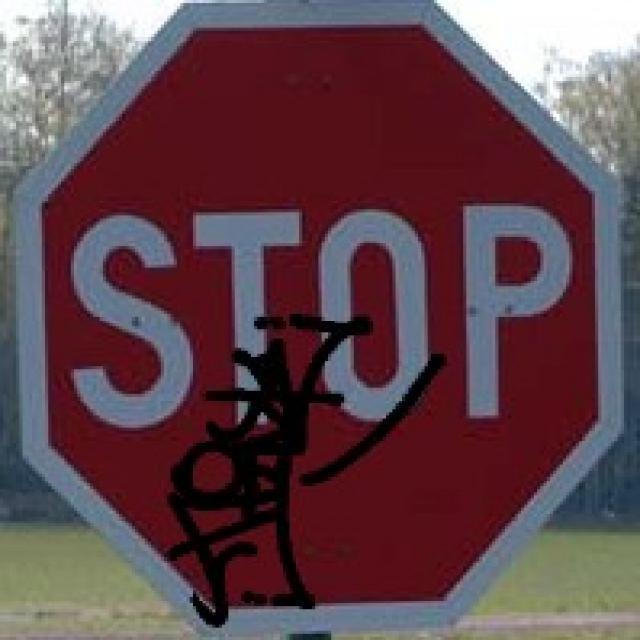Stop-Sign: (57, 136, 586, 472)
